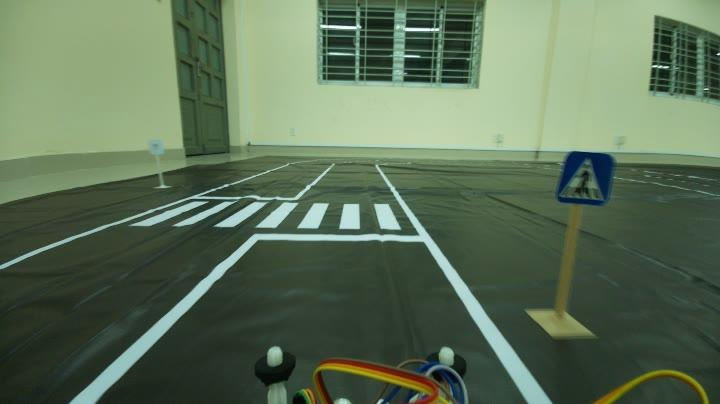crosswalk: (554, 144, 618, 215)
